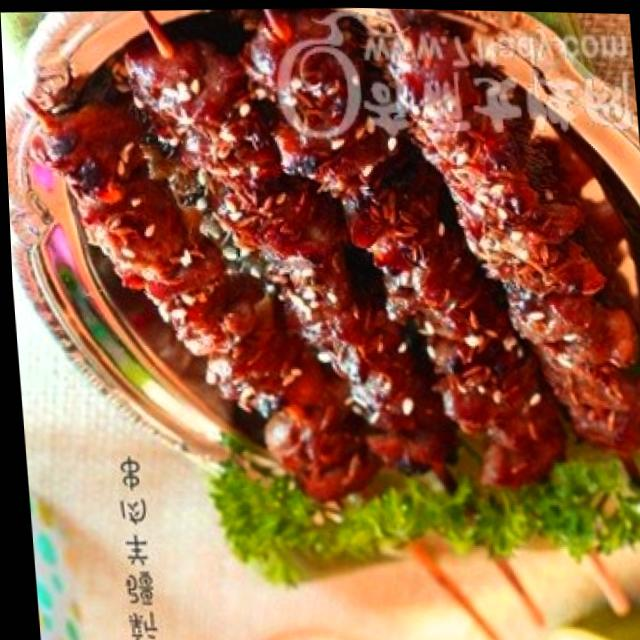烧串烤肉: (71, 23, 633, 566)
